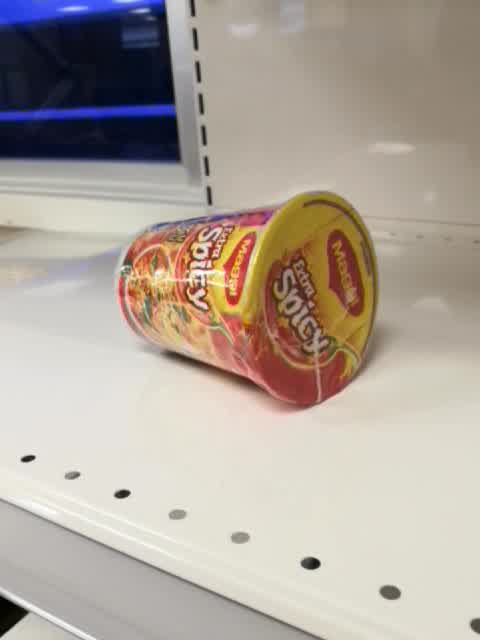maggi: (112, 188, 381, 410)
